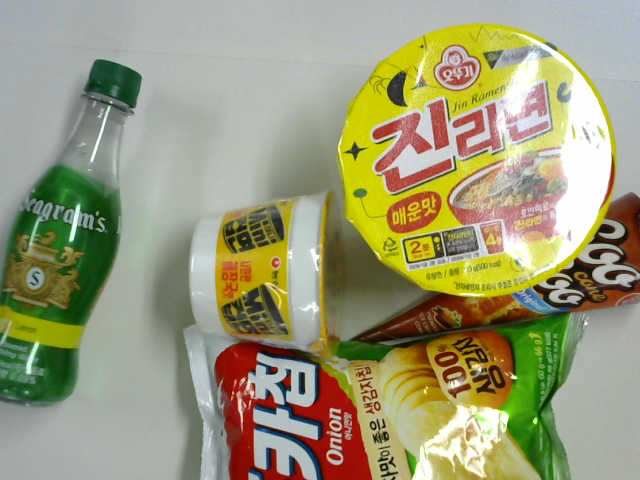GooGoo_Cone_CVS: (340, 190, 640, 341)
Hejangmini: (192, 190, 340, 359)
Jinlamyeon_Hot_Taste_Large_Cup: (333, 29, 616, 298)
Pocachip_Onion: (182, 312, 597, 480)
Seagram_Lemon_Carbonated_Water: (1, 55, 145, 407)
